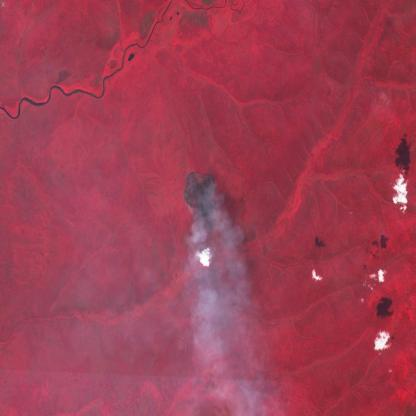fire: (182, 168, 220, 221)
